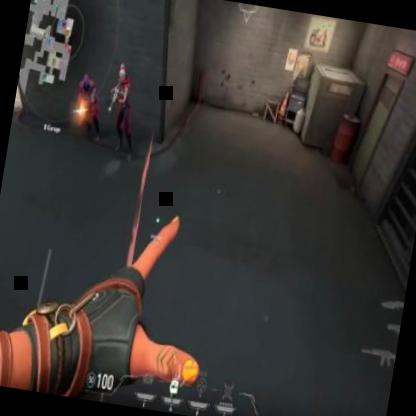enemy: (101, 60, 145, 160), (68, 66, 108, 141)
enemy_head: (116, 62, 128, 85), (80, 72, 90, 90)
